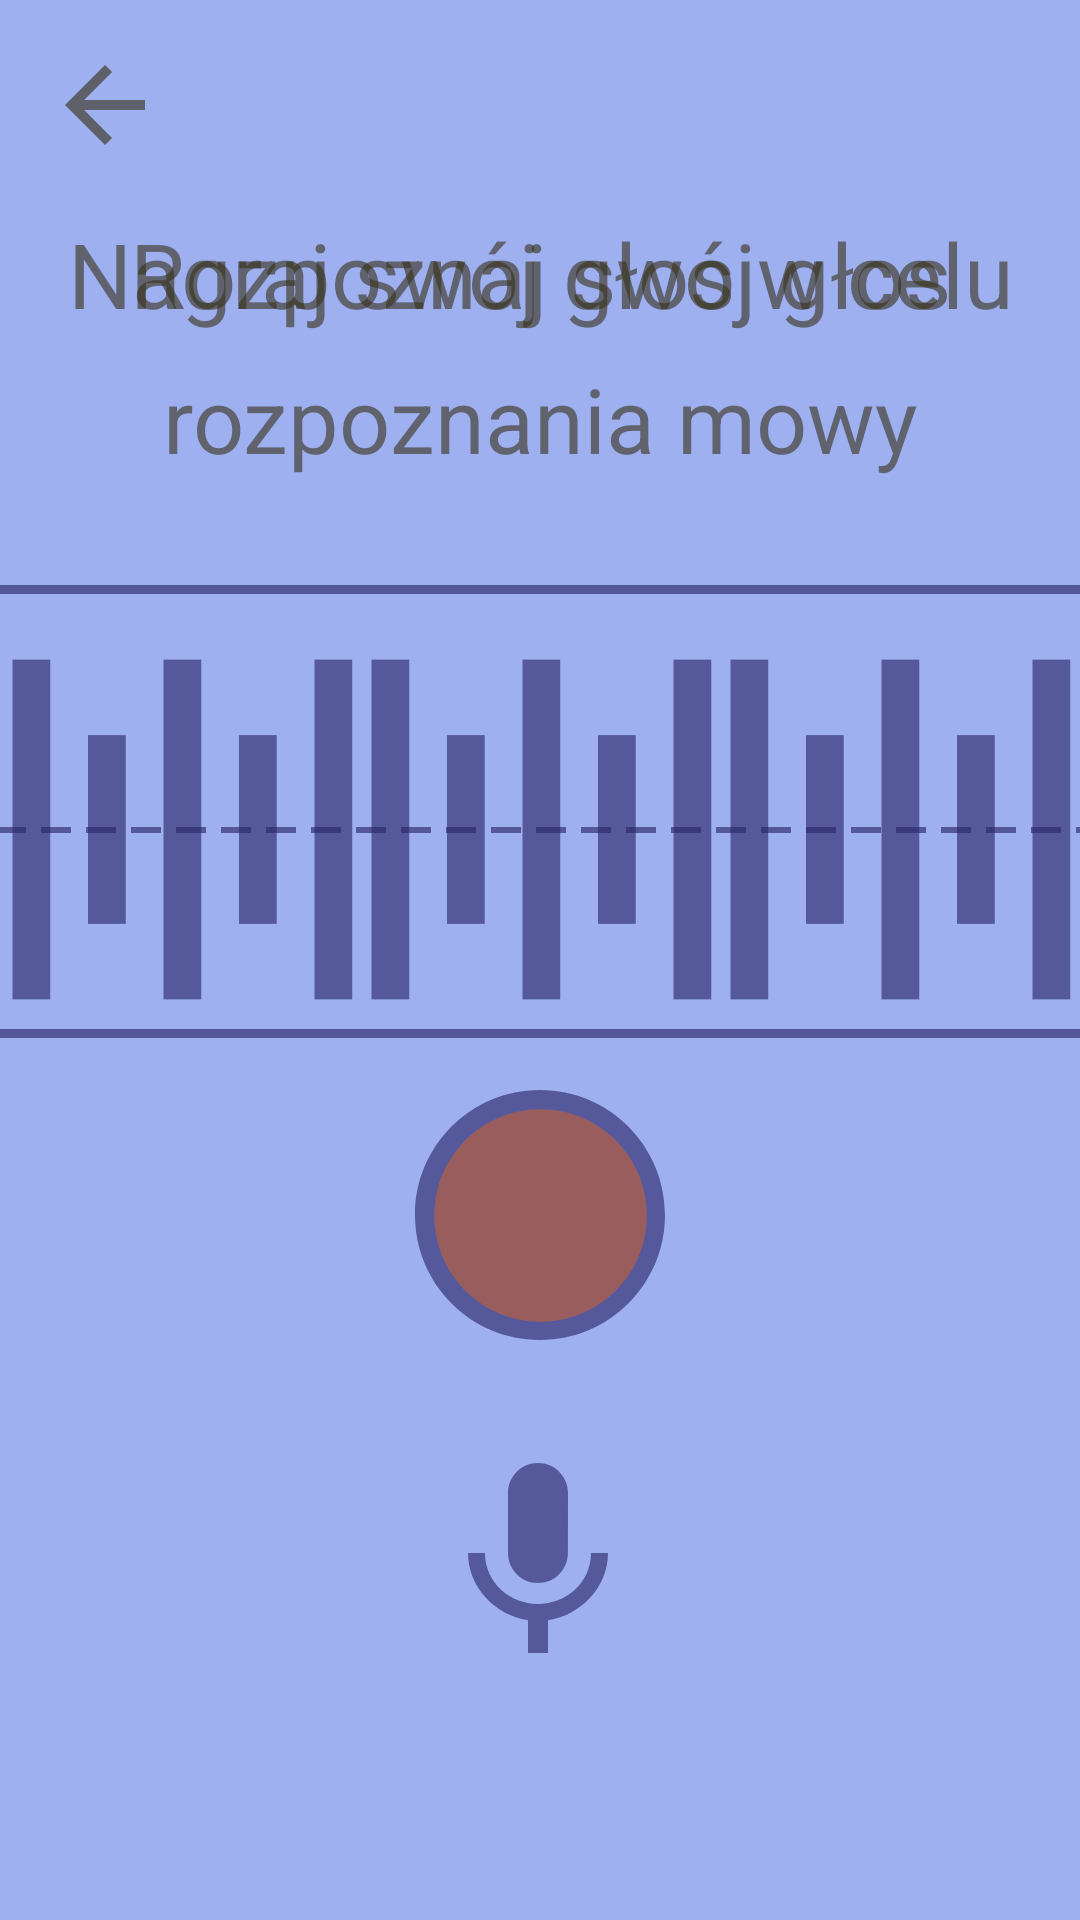

Icon bounding boxes for this 1080 x 1920 phone screenshot, format BBox(x1, y1, x2, y2):
arrow back: BBox(65, 65, 145, 145)
microphone: BBox(468, 1463, 608, 1653)
